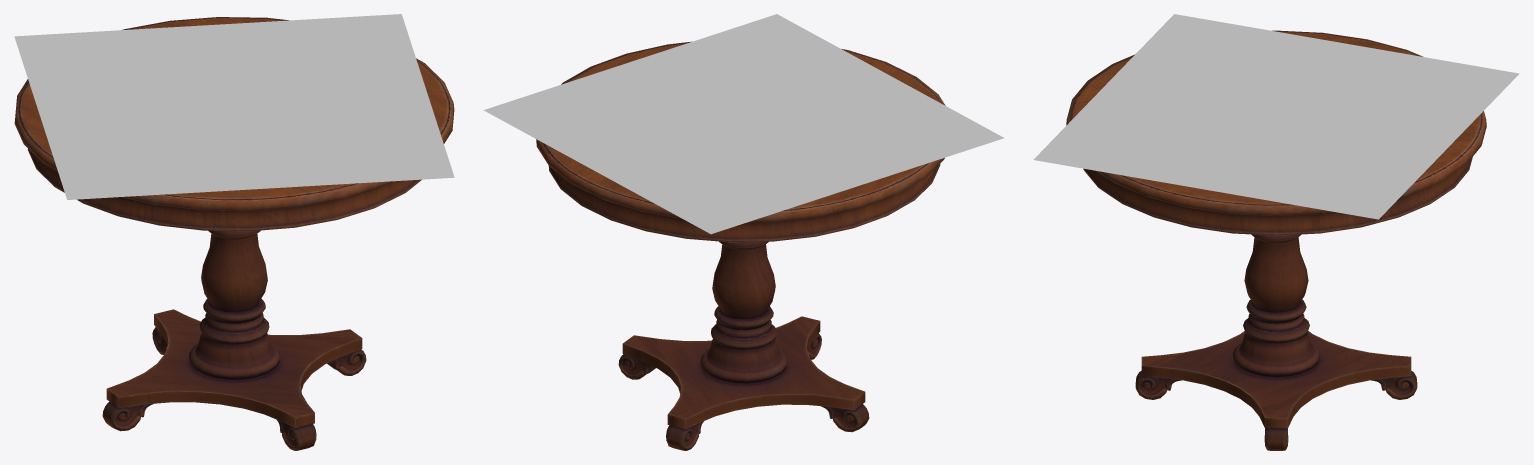
File: Table.fbx
3 views of the same model, side by side, from view 1: azimuth 30°, elevation 25°; view 2: azimuth 150°, elevation 25°; view 3: azimuth 270°, elevation 25° (orthographic). The views are drawn at different scales.
Visible parts, largest first — view 1: sea02, Table_top_low, Socle_low, Cylinder_low, Pieds_low; view 2: sea02, Table_top_low, Socle_low, Cylinder_low, Pieds_low; view 3: sea02, Table_top_low, Socle_low, Cylinder_low, Pieds_low.
Part boxes in pixels (x1=…): sea02: x1=14, y1=14, x2=454, y2=199; Table_top_low: x1=14, y1=17, x2=454, y2=231; Socle_low: x1=106, y1=309, x2=362, y2=428; Cylinder_low: x1=189, y1=230, x2=279, y2=379; Pieds_low: x1=102, y1=327, x2=366, y2=450; sea02: x1=483, y1=14, x2=1004, y2=234; Table_top_low: x1=536, y1=41, x2=945, y2=242; Socle_low: x1=622, y1=316, x2=865, y2=429; Cylinder_low: x1=700, y1=241, x2=787, y2=383; Pieds_low: x1=618, y1=333, x2=869, y2=450; sea02: x1=1033, y1=14, x2=1519, y2=219; Table_top_low: x1=1066, y1=30, x2=1486, y2=235; Socle_low: x1=1141, y1=331, x2=1411, y2=428; Cylinder_low: x1=1232, y1=234, x2=1320, y2=377; Pieds_low: x1=1135, y1=371, x2=1417, y2=450.
Bounding box in the file's own units: 2482 × 1573 × 2482.
